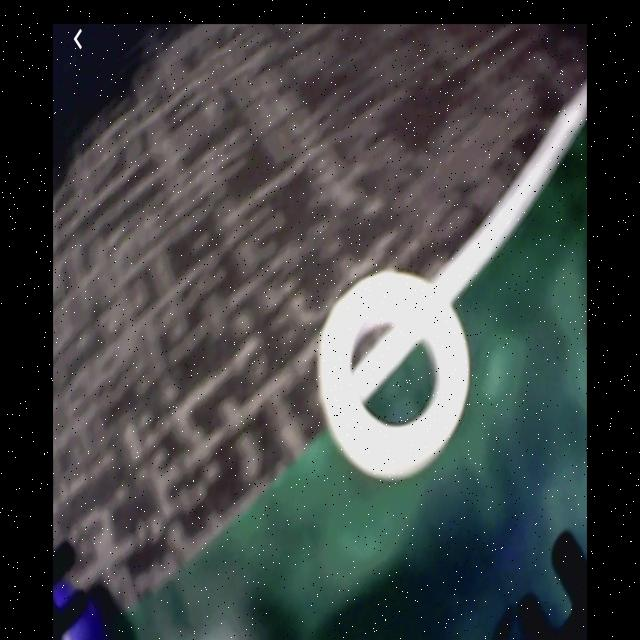ball: (55, 578, 103, 640)
